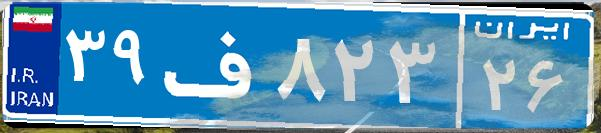2: (330, 28, 385, 110), (475, 38, 525, 113)
3: (385, 28, 445, 110), (57, 26, 110, 107)
6: (525, 38, 570, 115)
8: (273, 28, 330, 110)
9: (110, 28, 158, 105)
ف: (158, 15, 273, 115)
